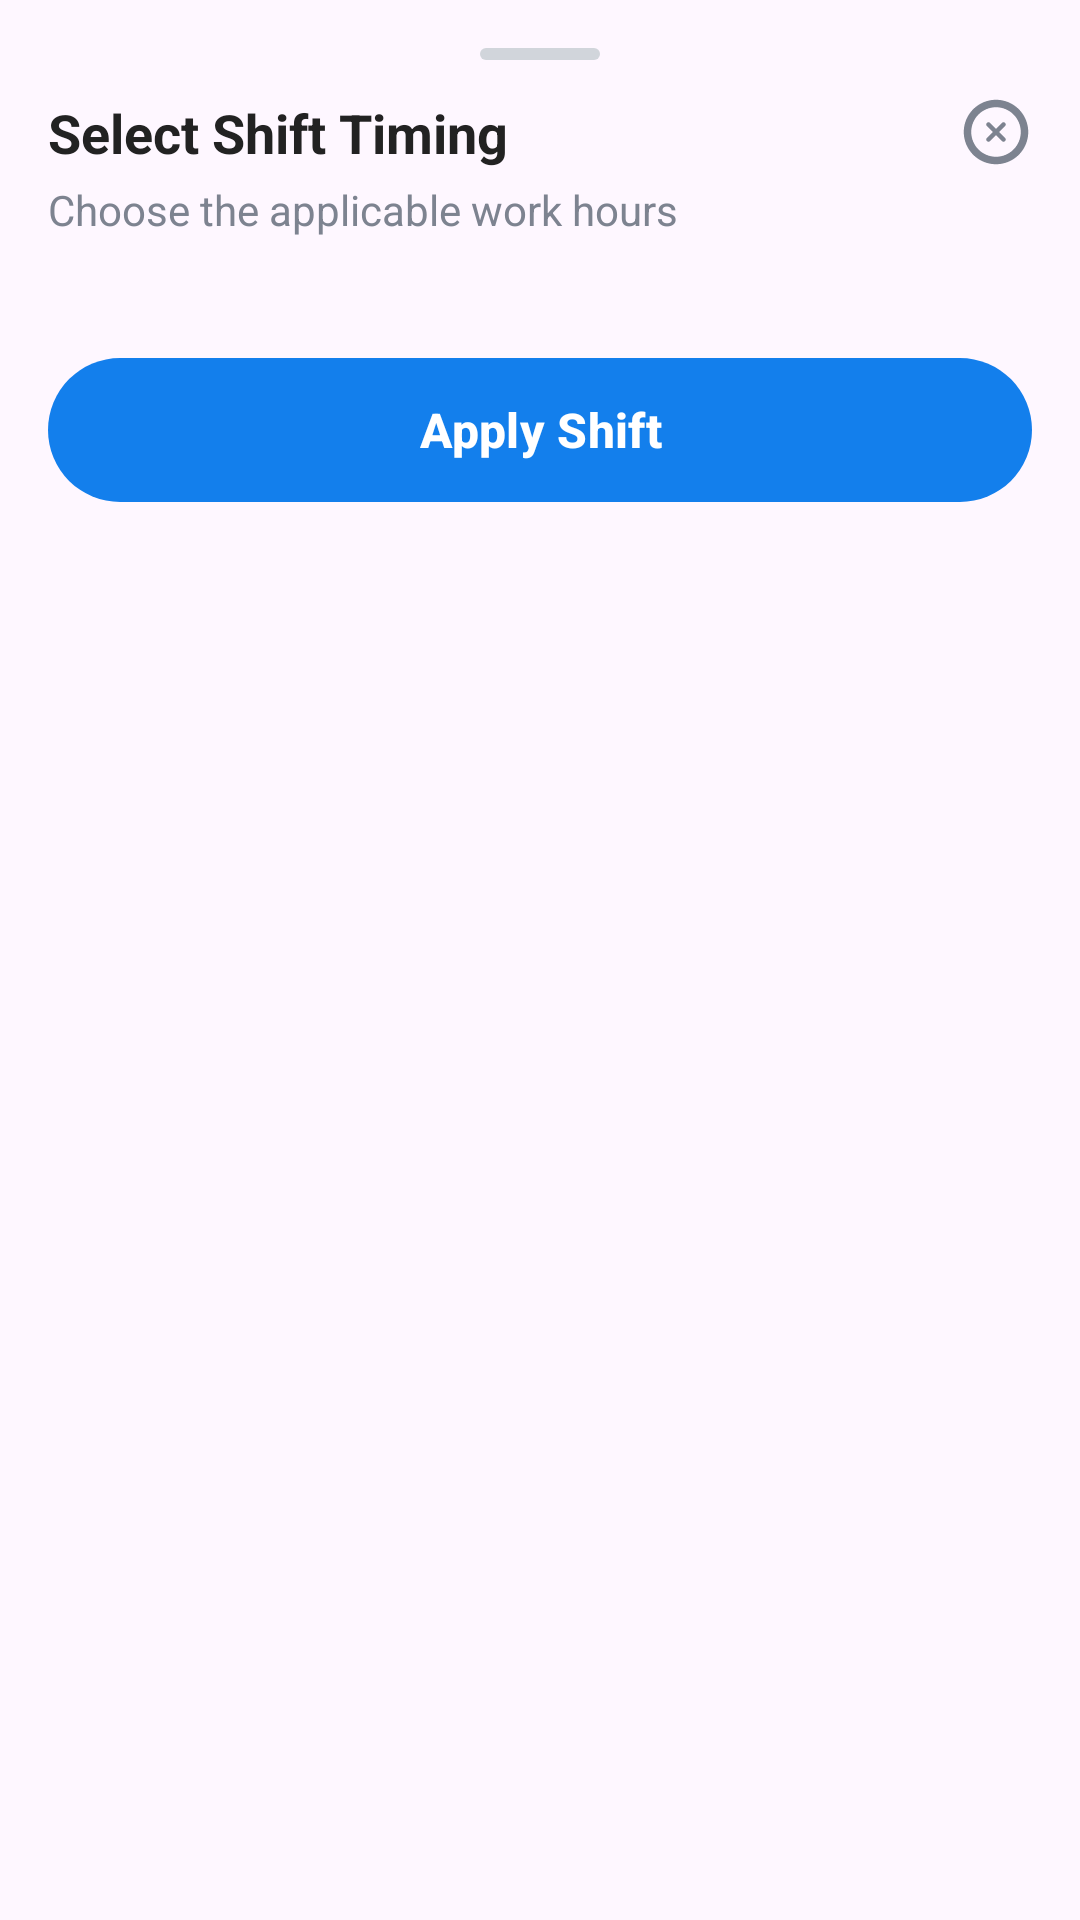

Named icons in this screenshot (1080x1920) and their bounding boxes, [x1, y1, x2, y2]:
close: [963, 99, 1029, 165]
